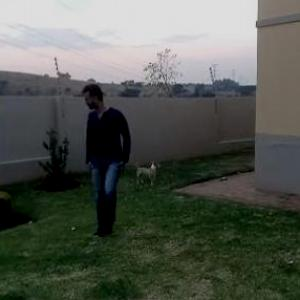follow: (84, 79, 135, 236)
